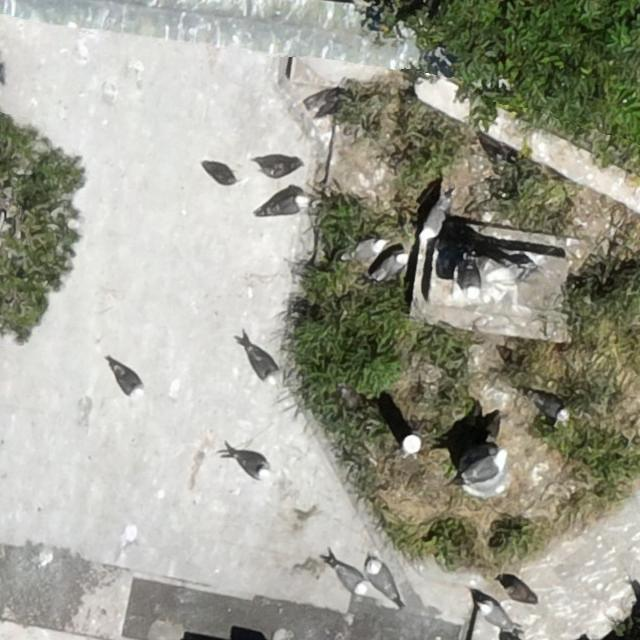umineko: (245, 340, 280, 386), (420, 197, 449, 242), (533, 394, 570, 422), (468, 452, 504, 477), (335, 566, 365, 594), (233, 452, 267, 476), (114, 365, 142, 394), (368, 563, 392, 595), (374, 254, 404, 279), (269, 196, 304, 214), (462, 264, 480, 296), (480, 604, 504, 627), (355, 238, 385, 255), (208, 166, 235, 184)
